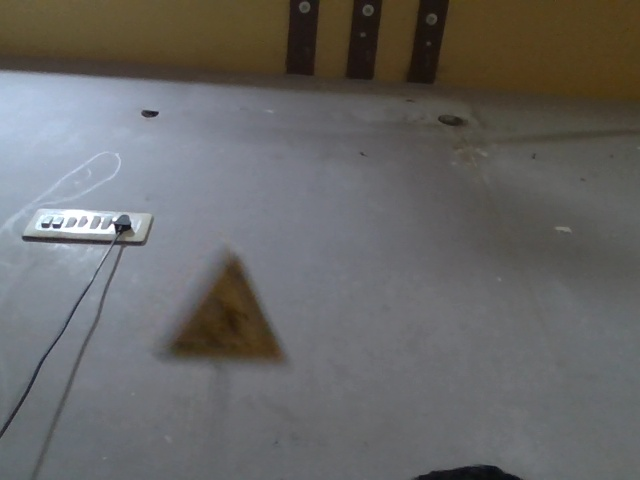workinprogress: (135, 242, 288, 379)
